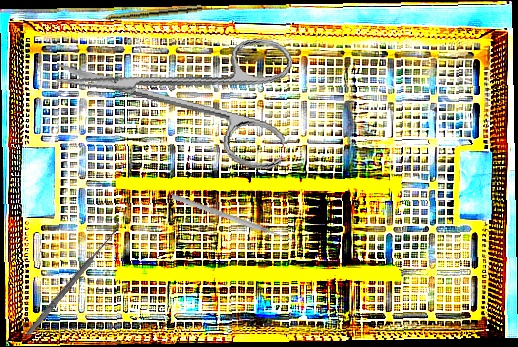Handpiece: (86, 3, 203, 24)
Hook Surgical: (20, 217, 125, 339)
Iris Scissors: (46, 4, 302, 173)
Pusher: (170, 192, 298, 246)
